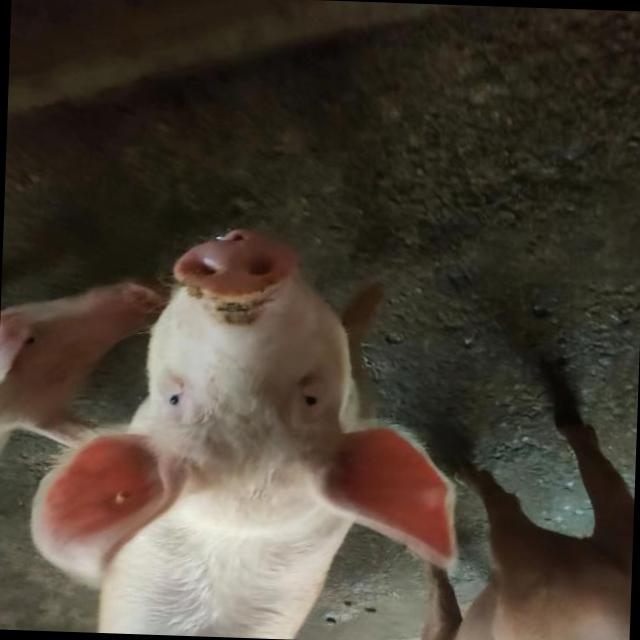pig: (31, 230, 454, 639), (423, 396, 634, 640), (0, 281, 164, 449)
